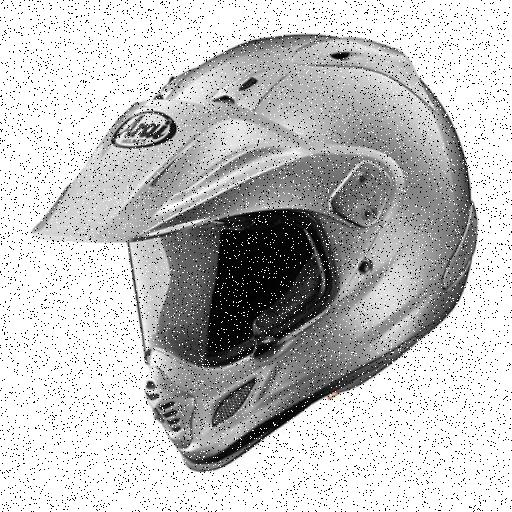Helmet: (33, 50, 482, 476)
